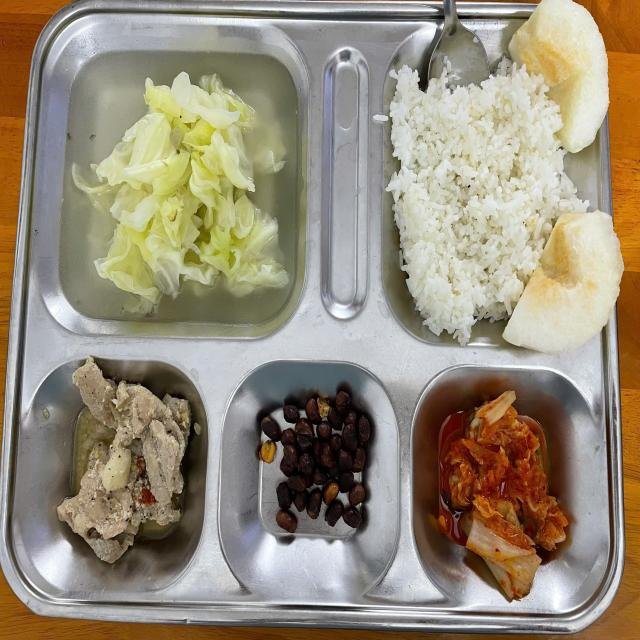canhcaitrang: (59, 42, 300, 338)
dauphong: (252, 382, 377, 553)
kimchi: (436, 394, 584, 604)
salad: (385, 59, 538, 299)
suhao: (494, 209, 627, 355), (507, 0, 614, 165)
thitram: (60, 374, 195, 559)
